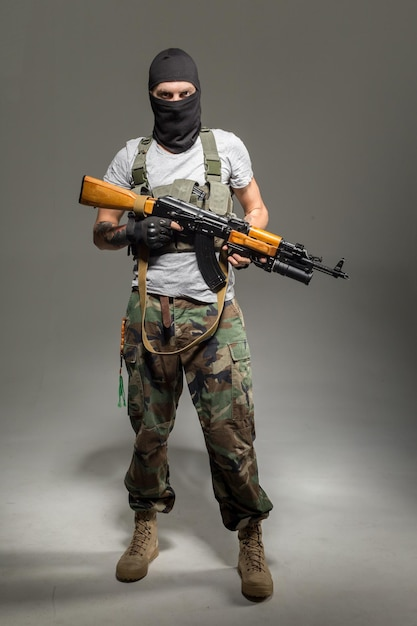gun: (81, 174, 352, 289)
